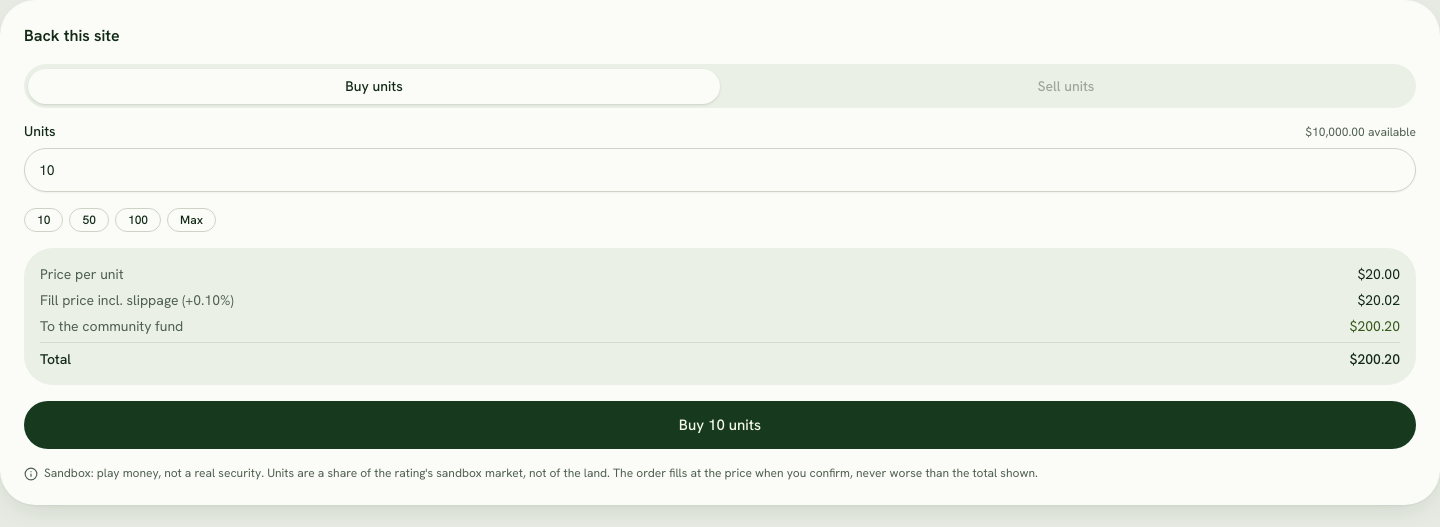
Test: TradePanel › fills Max from the backend's largest order
The image size is (1440, 527).
Expected: the element named "Quote" shows "$200.20", left=1350, top=317, right=1400, bottom=335
Click the button "Max".
click(192, 220)  # box left=167, top=208, right=216, bottom=232
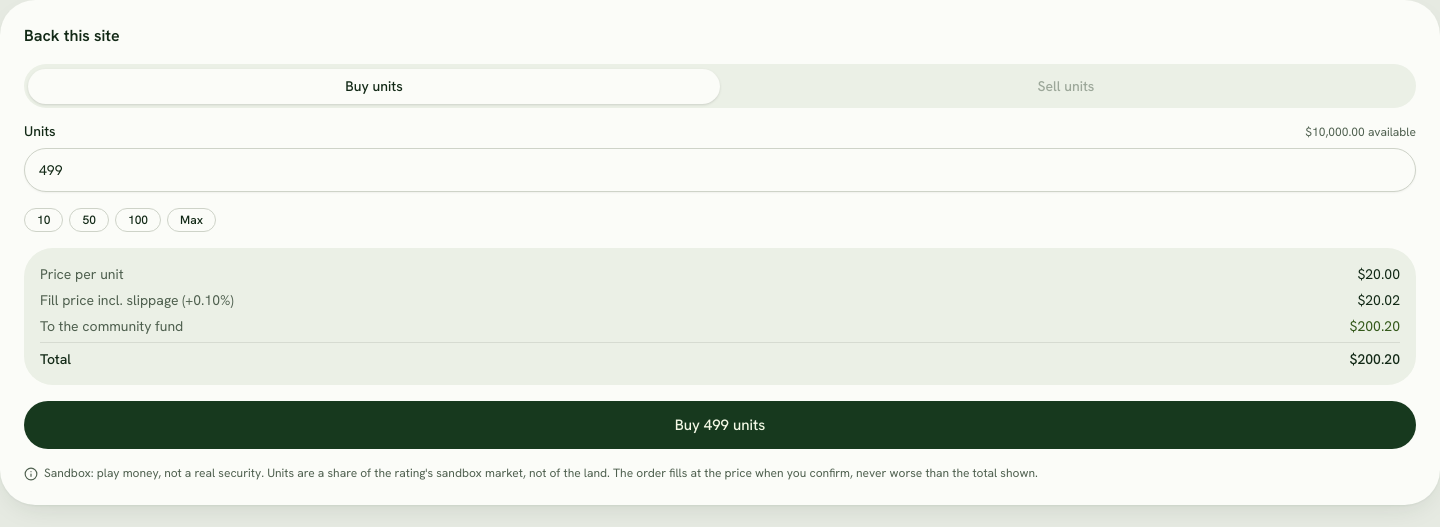
Now the field labelled "Units" holds "499", box left=24, top=148, right=1416, bottom=192
